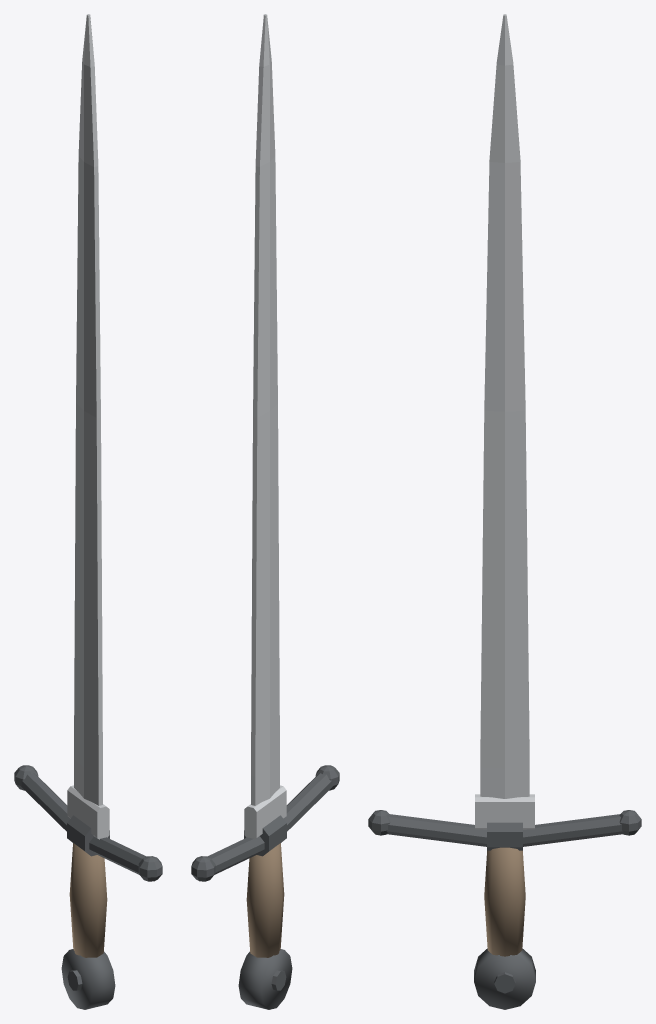
The model's file is weapon_sword.glb.
The picture shows the model from 3 angles, left to right: view 1: azimuth 30°, elevation 25°; view 2: azimuth 150°, elevation 25°; view 3: azimuth 270°, elevation 25°; orthographic projection.
Visible parts, largest first — view 1: weapon_sword; view 2: weapon_sword; view 3: weapon_sword.
Boxes of the visible parts, x1,y1,x2,y2 form: weapon_sword: (14, 14, 162, 1009); weapon_sword: (191, 14, 339, 1009); weapon_sword: (368, 14, 641, 1009).
Size of the model in its own units: 0.0313 by 0.915 by 0.2289.
